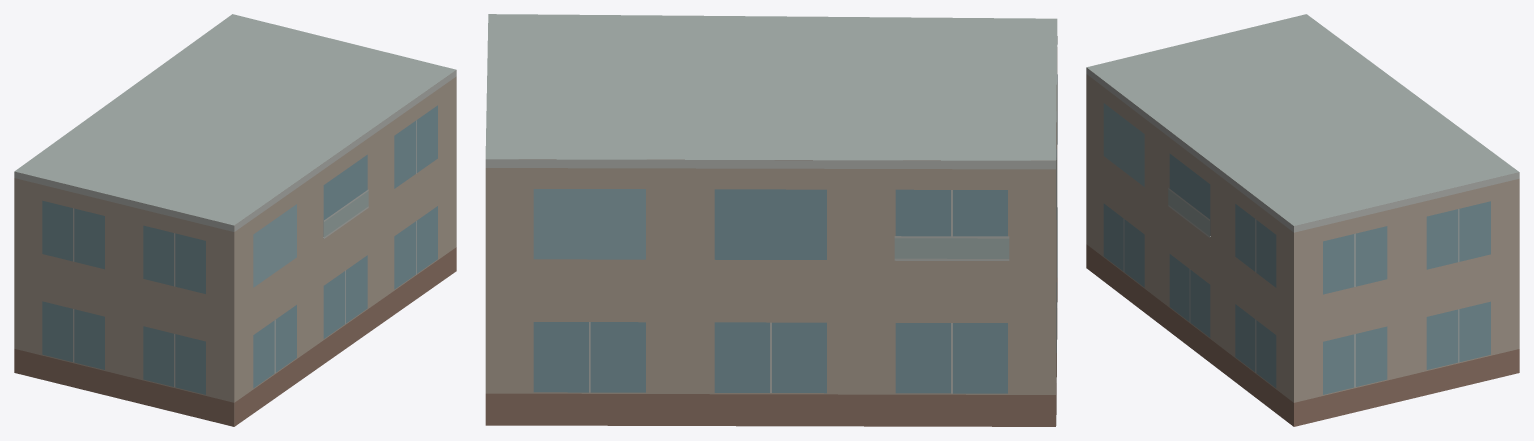
Rendered from survey-upis-32744780.glb.
3 views of the same model, side by side, from view 1: azimuth 30°, elevation 25°; view 2: azimuth 150°, elevation 25°; view 3: azimuth 270°, elevation 25° (orthographic). The views are drawn at different scales.
Visible parts, largest first — view 1: survey-upis-32744780.tmp; view 2: survey-upis-32744780.tmp; view 3: survey-upis-32744780.tmp.
Boxes of the visible parts, x1=… form: survey-upis-32744780.tmp: x1=14, y1=14, x2=456, y2=426; survey-upis-32744780.tmp: x1=485, y1=14, x2=1057, y2=426; survey-upis-32744780.tmp: x1=1086, y1=14, x2=1519, y2=426.
Bounding box in the file's own units: 16.96 × 7.48 × 14.64.
